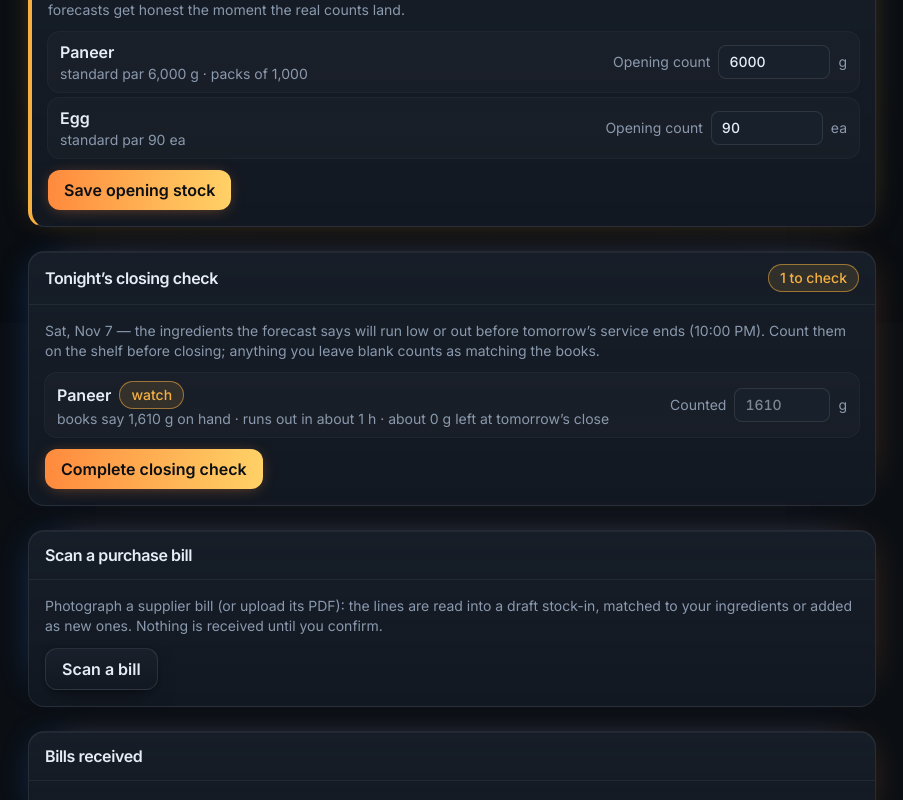
closing_check_lists_the_forecast_and_records_completion
(page scrolled)
Check: the heading "Tonight’s closing check" is shown, box [45,266,218,290]
Check: the text "runs out in about 1 h" is shown, box [243,410,376,427]
In the number field named "Counted quantity for Paneer": (782, 405) [734,388,830,422], type "1510"
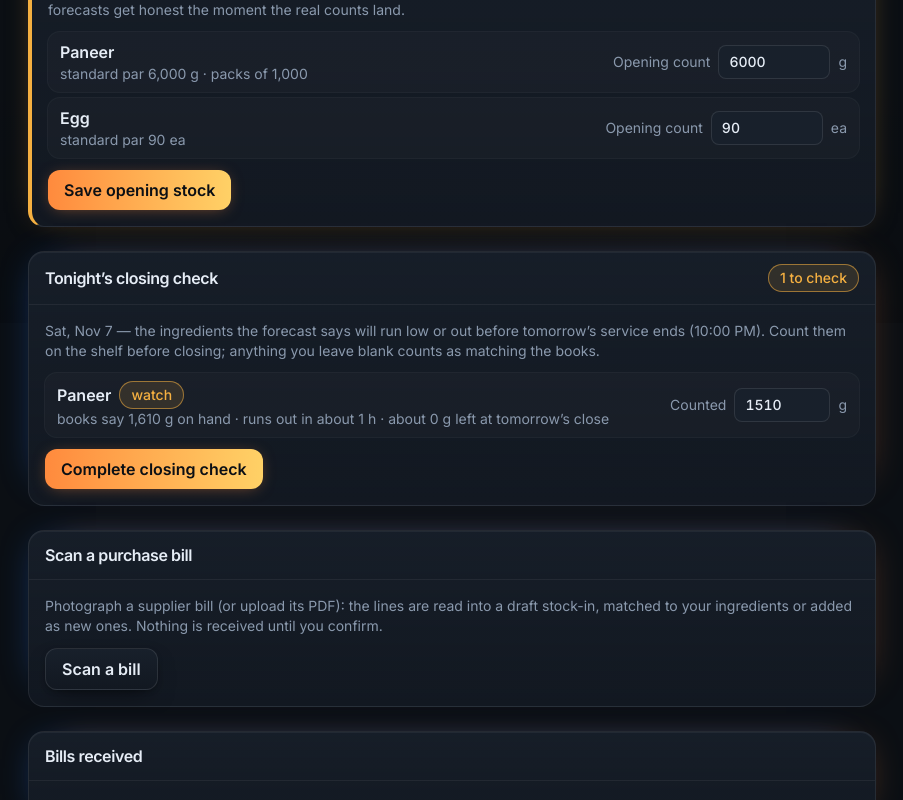
Click the button "Complete closing check": (154, 469) [45,449,263,489]
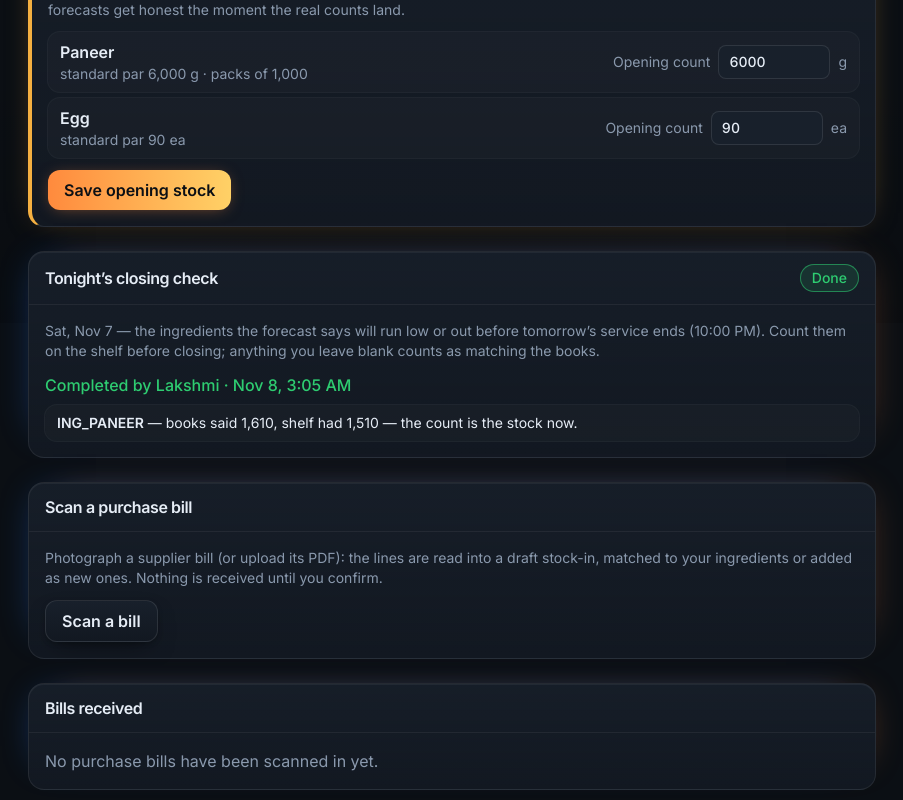
Check: the text "Completed by Lakshmi · Nov 8, 3:05 AM" is shown, box [45,375,352,395]
Check: the list item "books said 1,610, shelf had 1,510" is shown, box [45,405,859,441]
